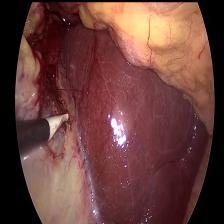Hook: (43, 110, 71, 148)
